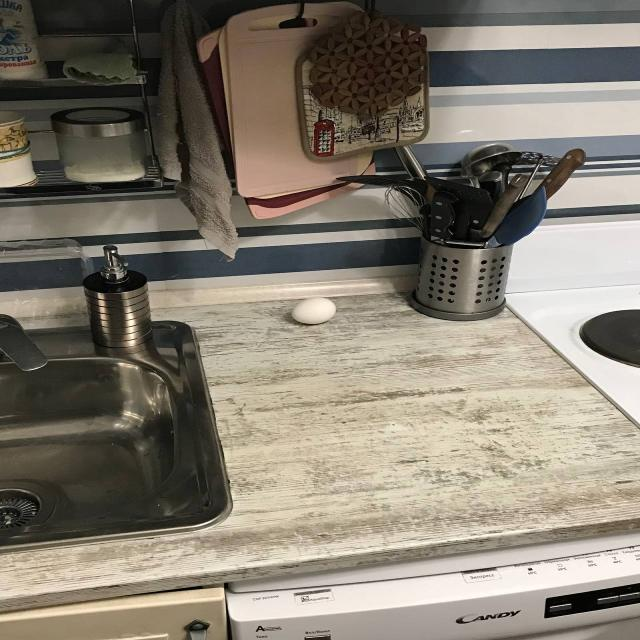egg: (290, 297, 338, 325)
